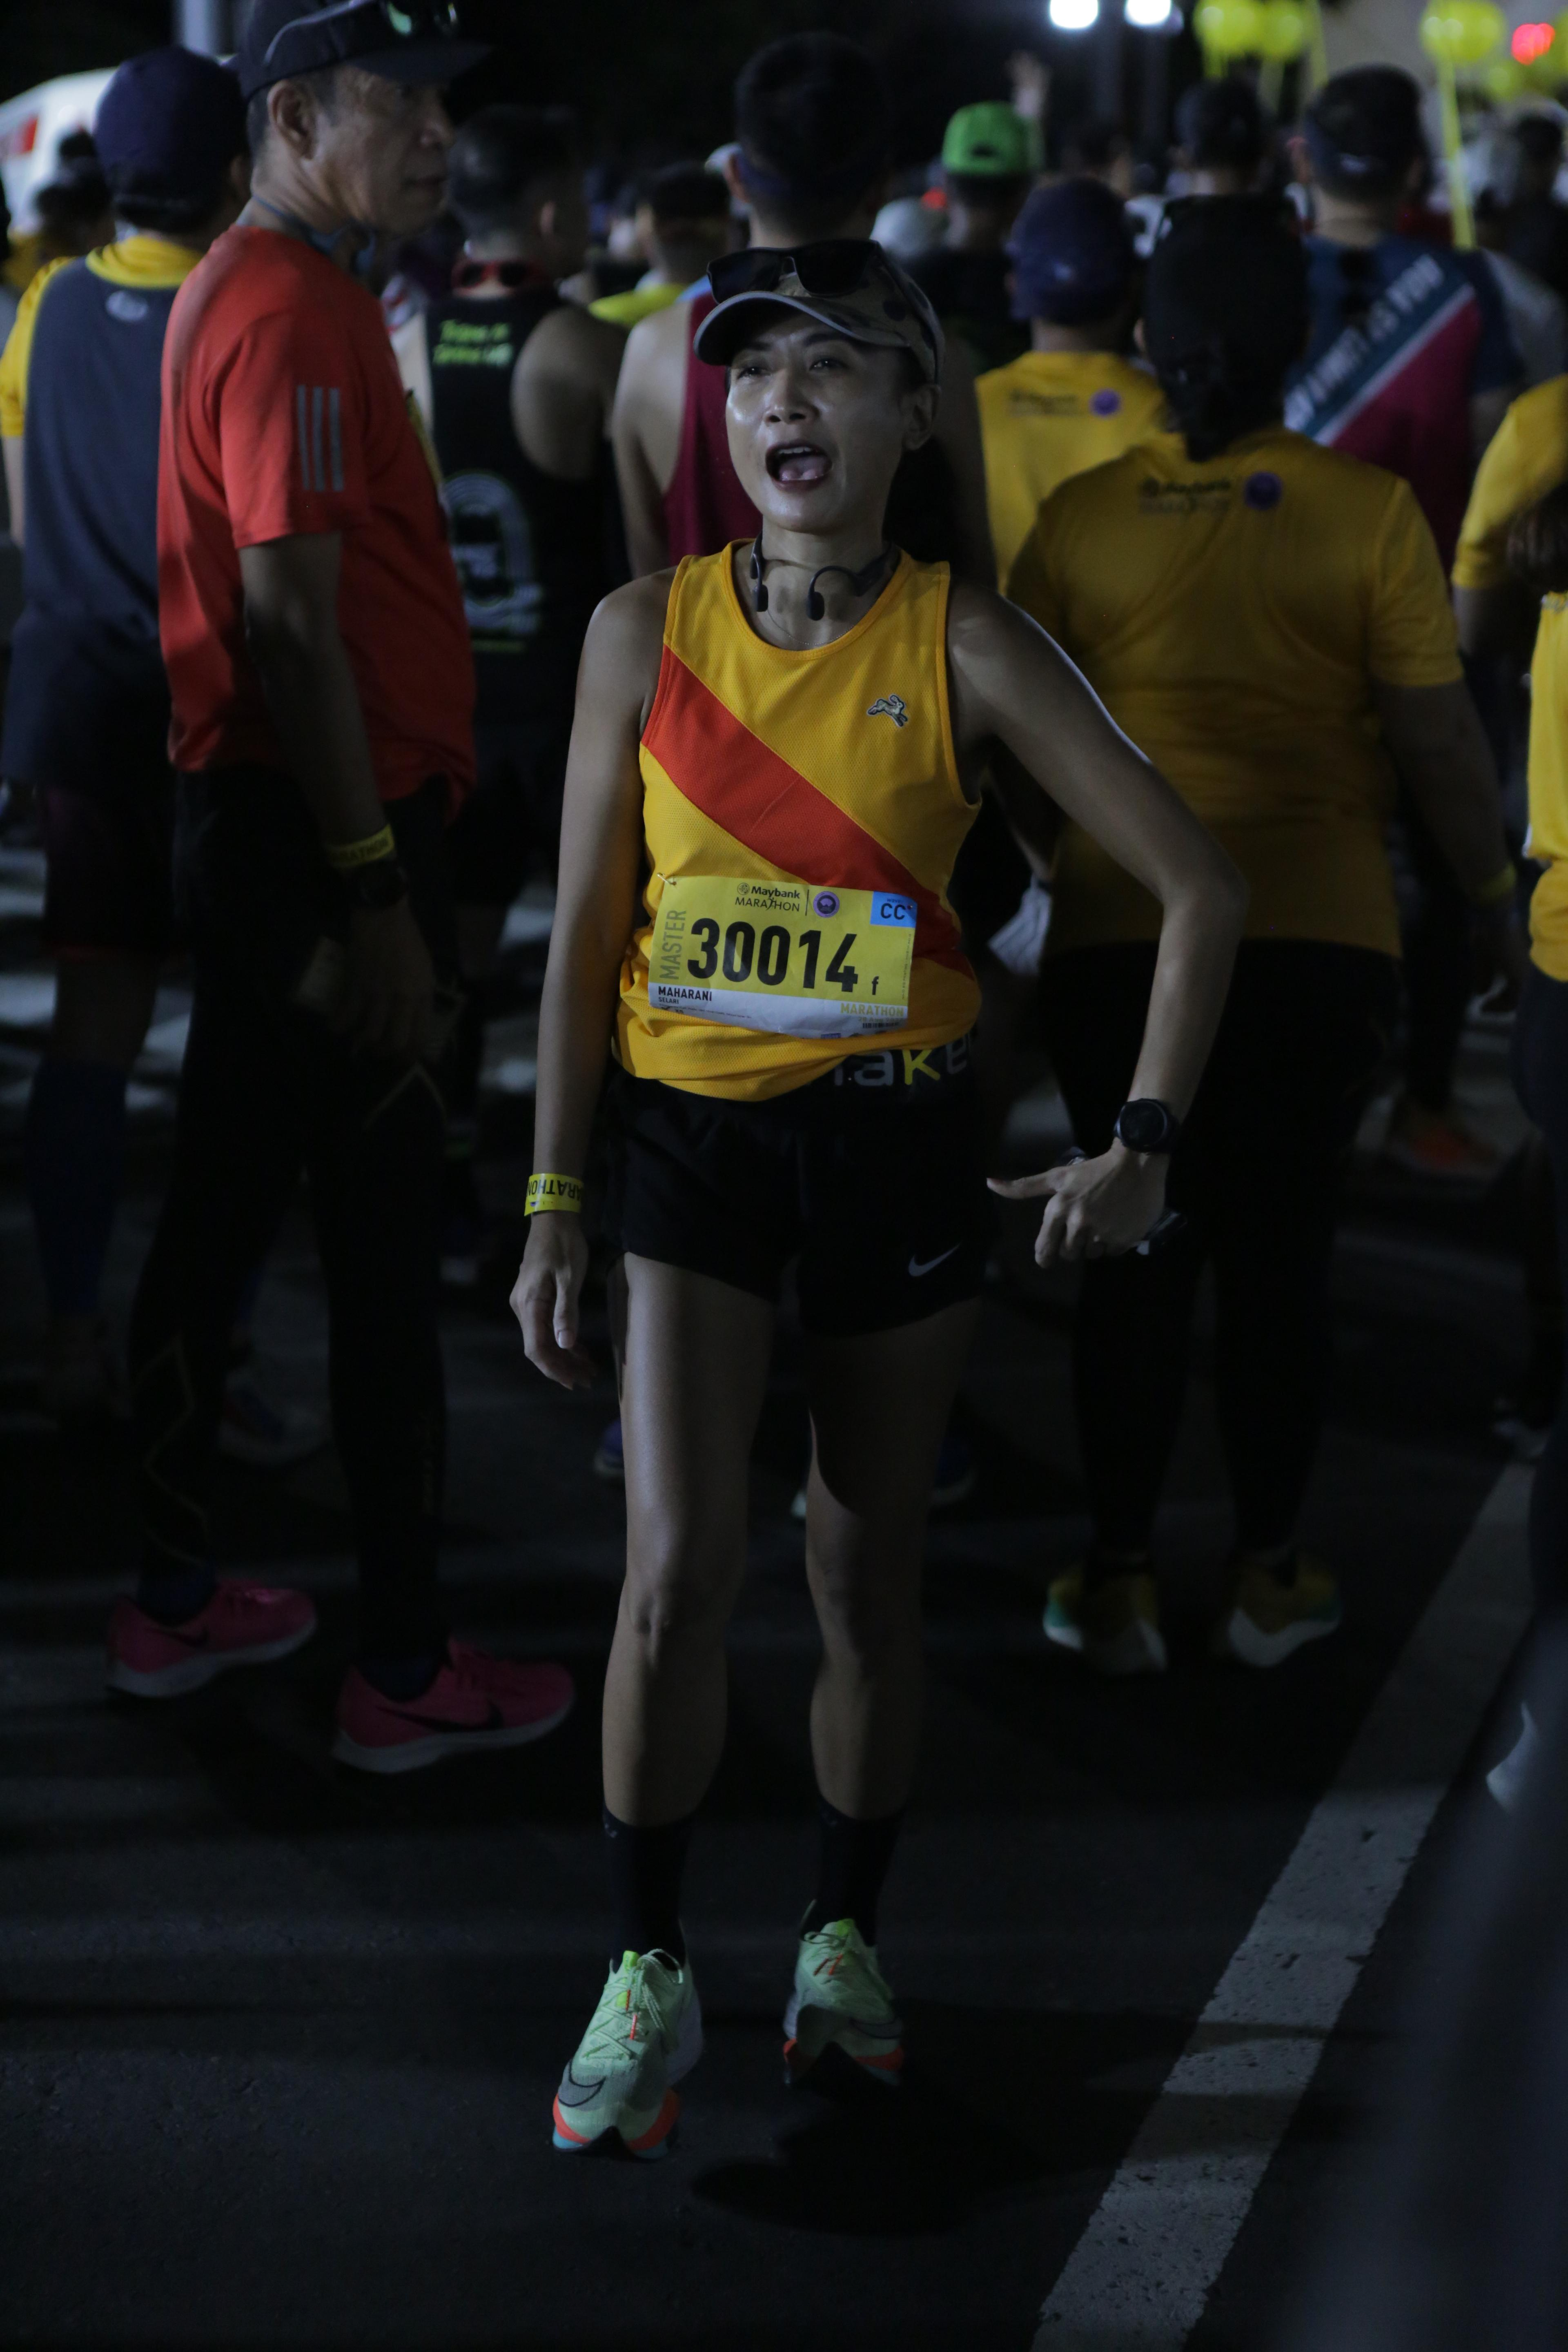bib: (647, 871, 915, 1038)
